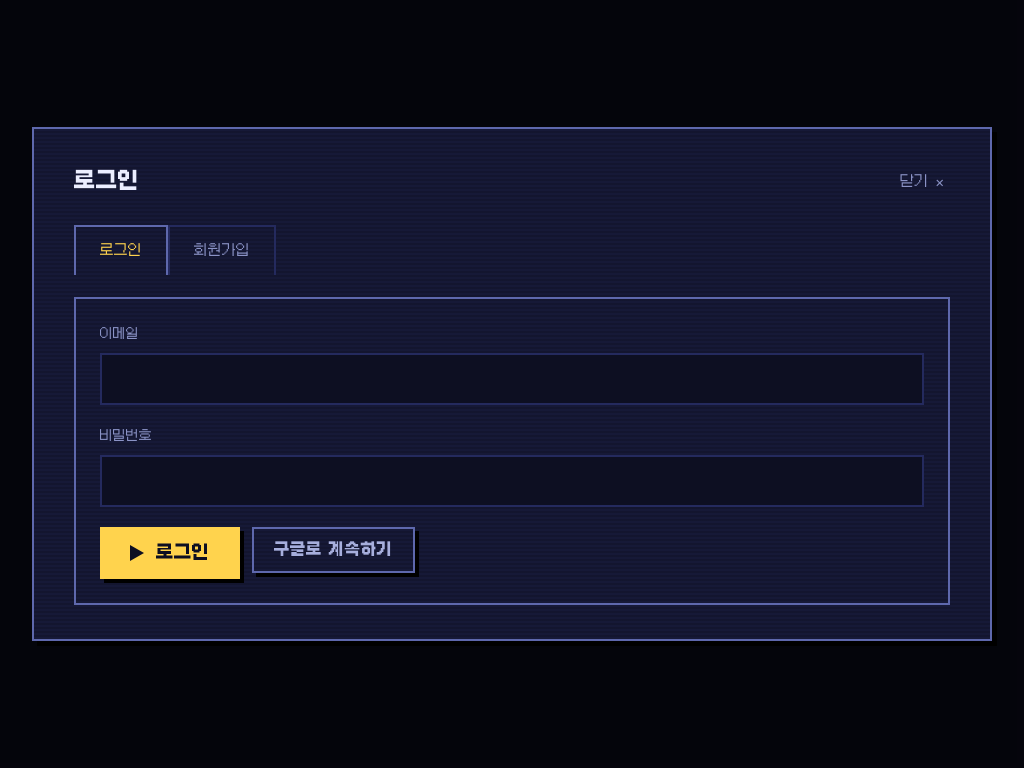
Test: AuthModal — 탭 › 탭을 바꾸면 오류가 지워진다
Step 1. Type "none@b.com" into the field labelled "이메일" → (512, 379), box [100, 353, 924, 405]
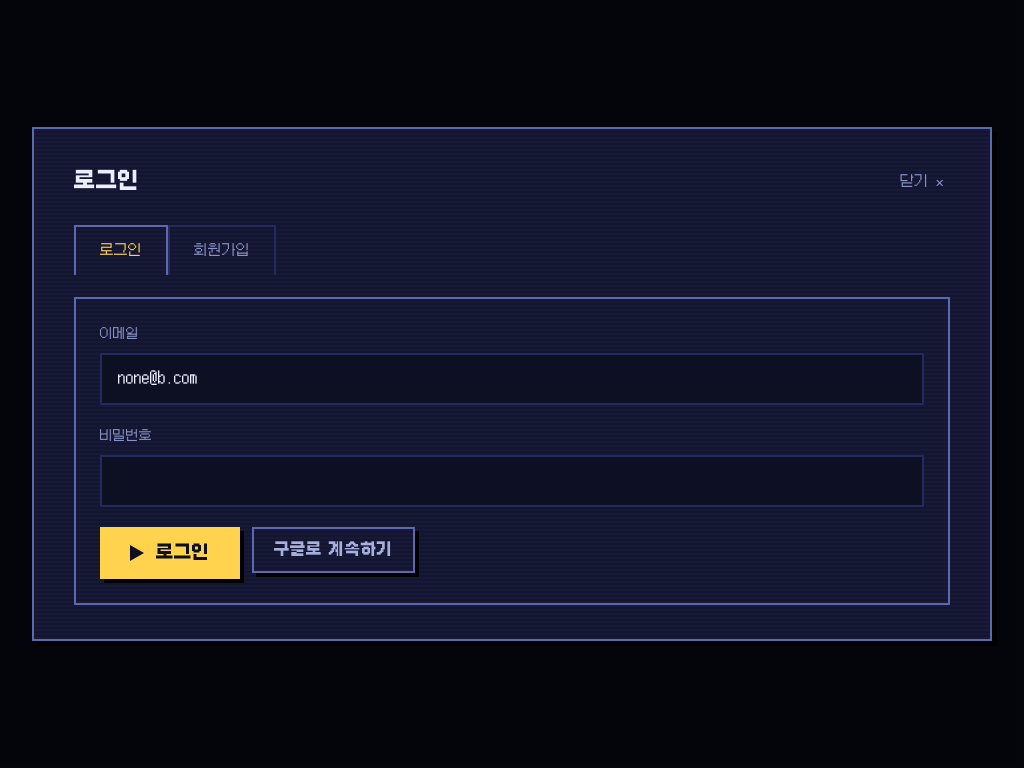
Step 2. Type "pw123456" into the password field labelled "비밀번호" → (512, 481), box [100, 455, 924, 507]
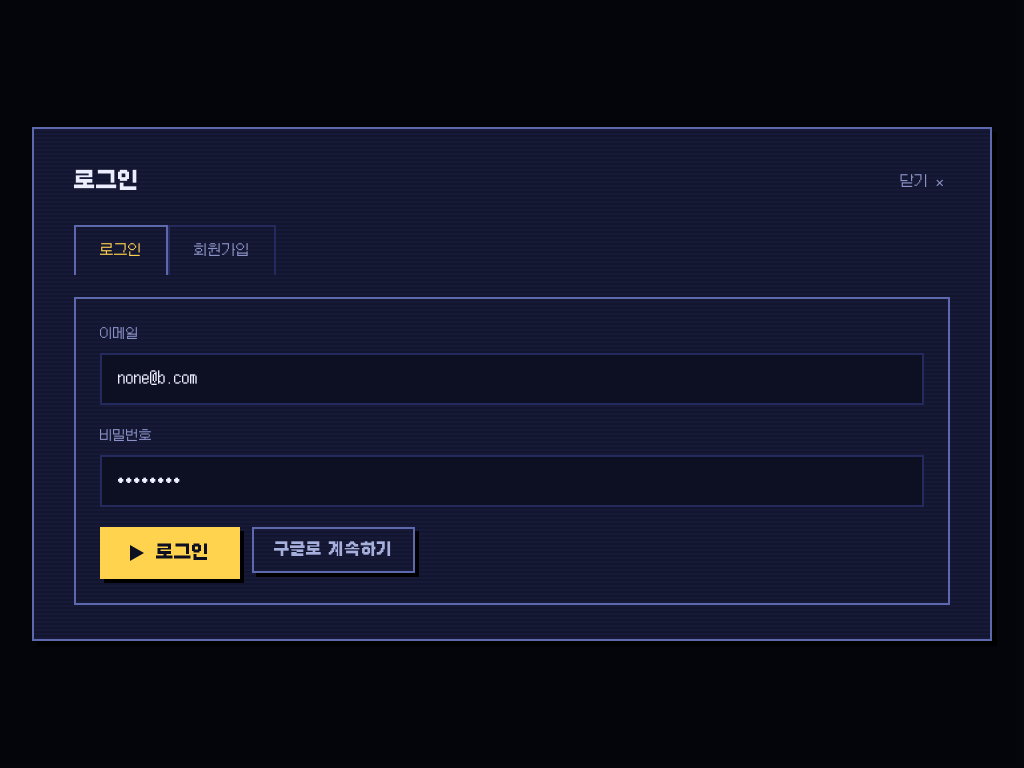
Step 3. Click the button "로그인" below "비밀번호" → (170, 553), box [100, 527, 240, 579]
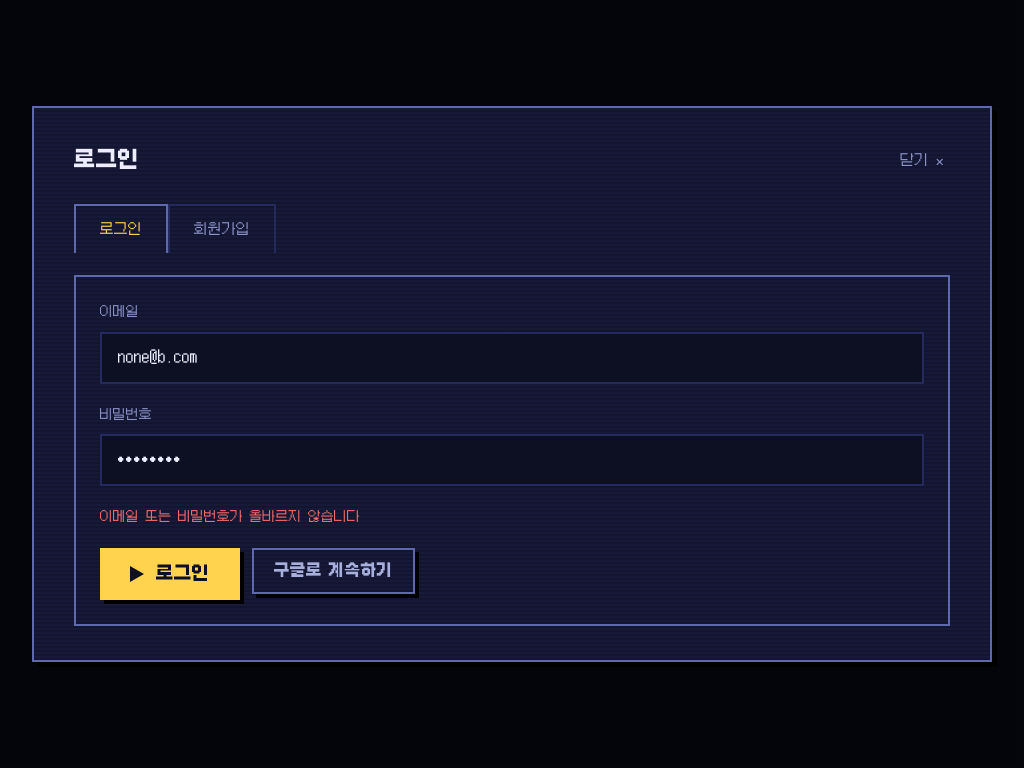
Result: the text "이메일 또는 비밀번호가 올바르지 않습니다" is shown at [100, 509, 360, 524]
Step 4. Click the button "회원가입" → (222, 229), box [168, 204, 276, 254]
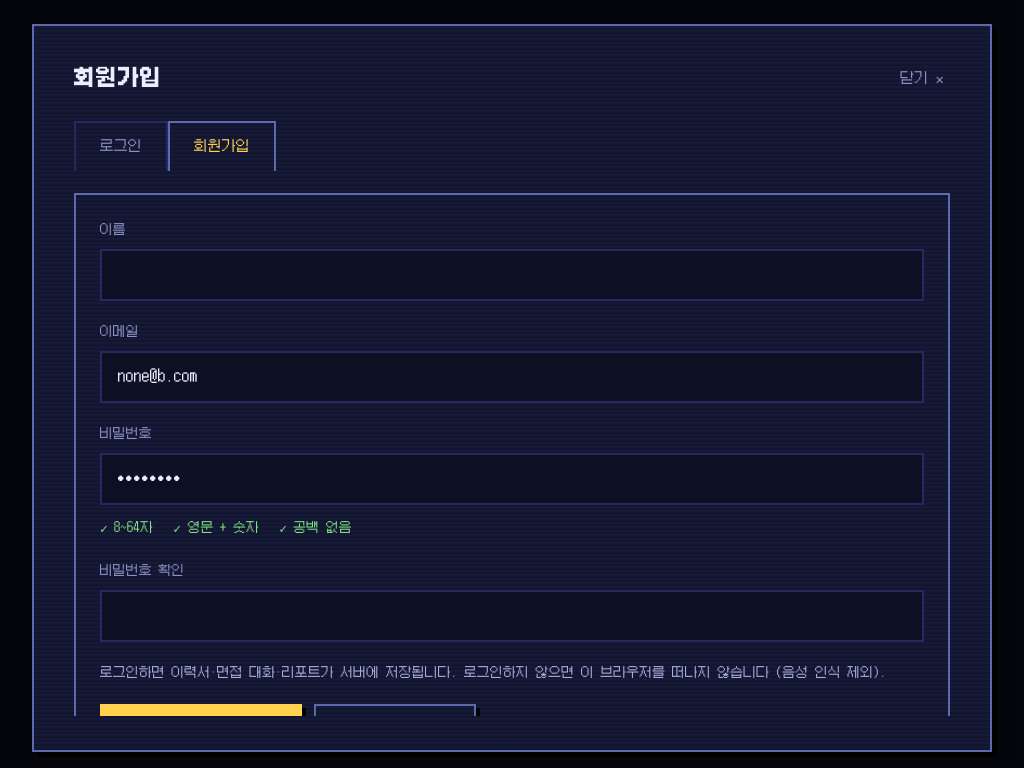
Result: the text with test id "auth-error" is gone
